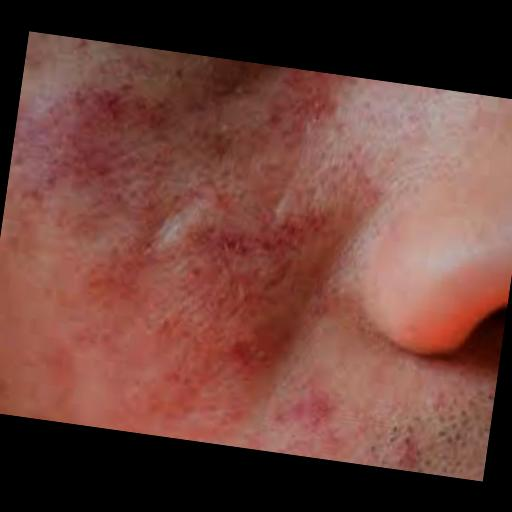Skin_Lesion: (246, 202, 324, 282), (61, 72, 133, 146), (270, 64, 339, 128), (84, 244, 153, 296), (45, 146, 122, 190), (188, 209, 248, 258), (268, 386, 328, 434), (207, 324, 268, 370), (174, 261, 234, 305), (154, 301, 192, 343)
